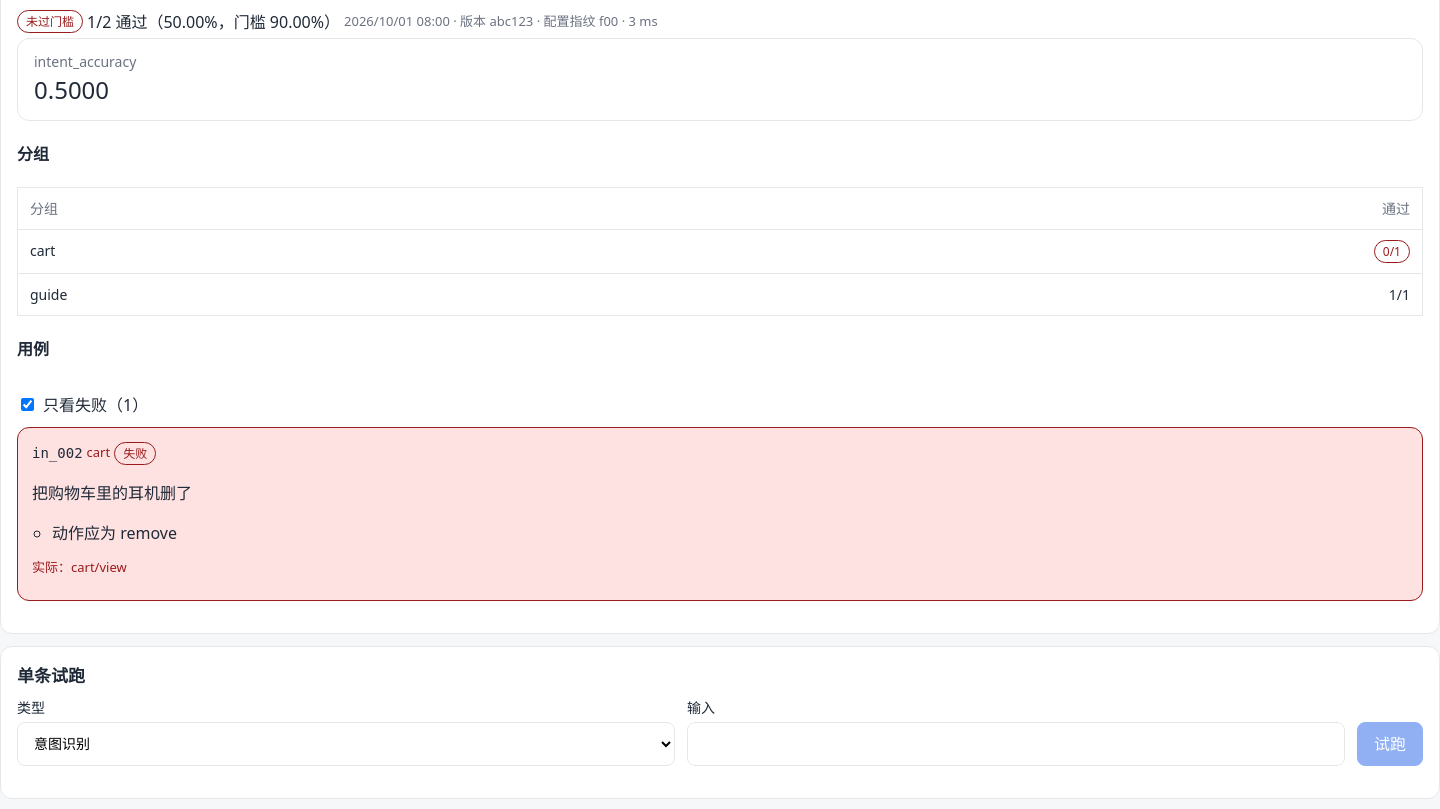
it: 质量评测 › 未过门槛的套件和报告标红；报告详情默认只看失败用例，可切换全部；向量异常和同步失败标出
(page scrolled)
Expected: the text "把购物车里的耳机删了" is shown, [32, 482, 192, 504]
Expected: the list item "动作应为 remove" is shown, [52, 522, 177, 544]
Click the checkbox labelled "只看失败（1）" at (28, 405), box [21, 398, 34, 411]
(page scrolled)
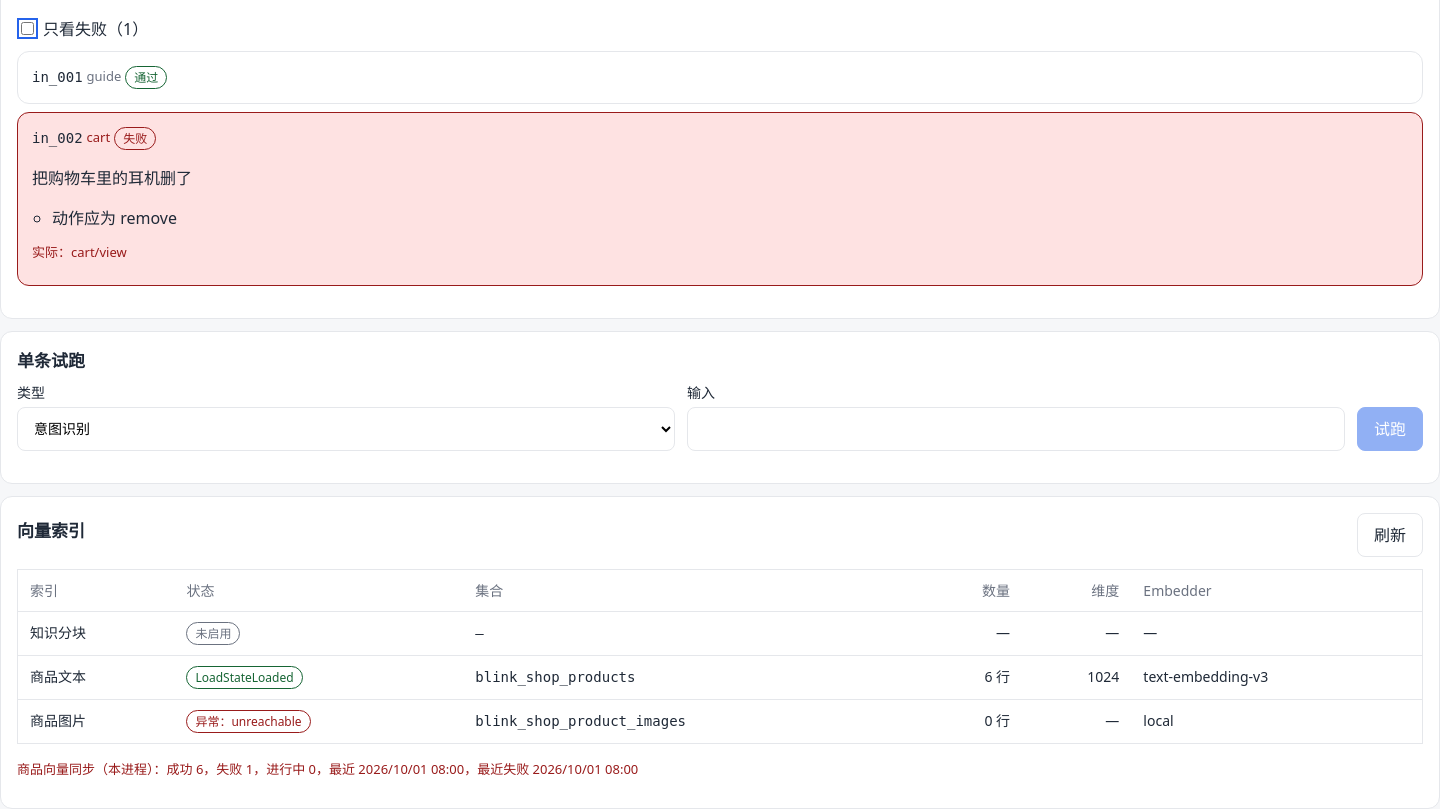
Expected: the text "未启用" is shown, [186, 622, 240, 645]
Now the text "in_001" is shown, box [32, 67, 83, 88]
